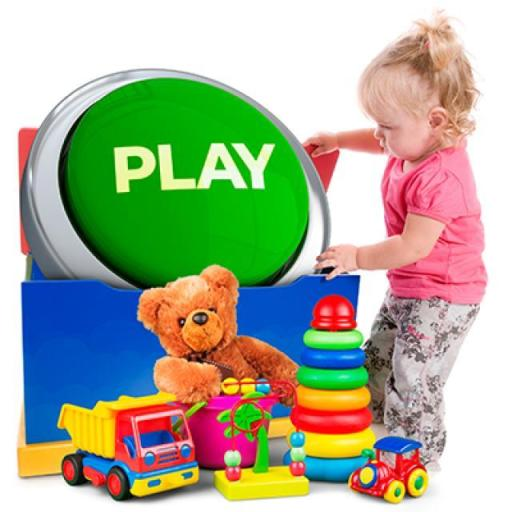baby: (300, 30, 490, 469)
